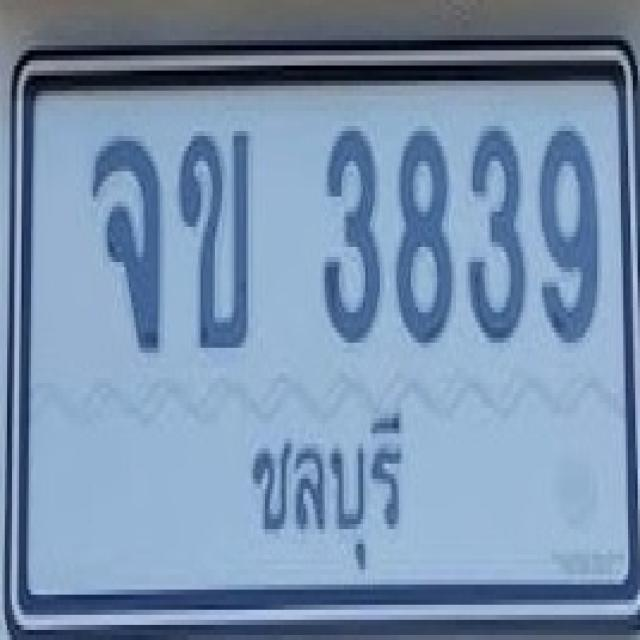license_plate: (9, 40, 640, 639)
